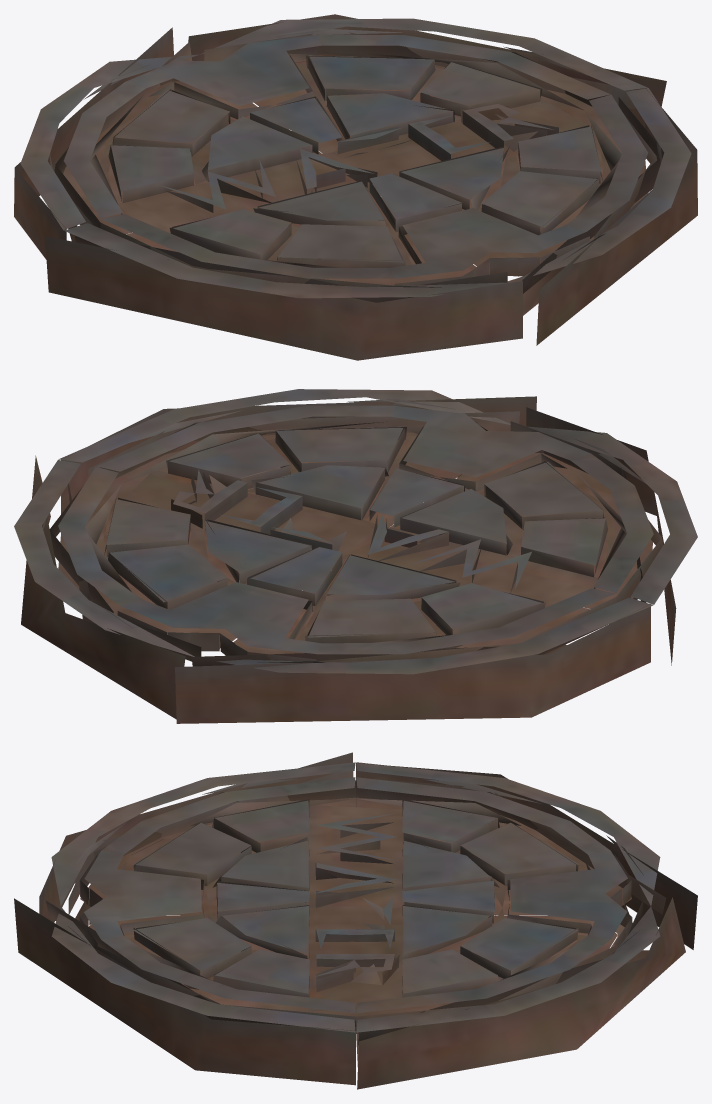
Rendered from manhole.glb.
3 views of the same model, one above another, from view 1: azimuth 30°, elevation 25°; view 2: azimuth 150°, elevation 25°; view 3: azimuth 270°, elevation 25° (orthographic). The views are drawn at different scales.
Parts seen in each view (by area): view 1: water_manhole_cover; view 2: water_manhole_cover; view 3: water_manhole_cover.
Boxes of the visible parts, box(x1,y1,x2,y2) form: water_manhole_cover: box(14, 14, 697, 360); water_manhole_cover: box(14, 389, 697, 723); water_manhole_cover: box(14, 752, 697, 1089).
Size of the model in its own units: 0.746 by 0.0678 by 0.746.
1 material, 1 textured.
